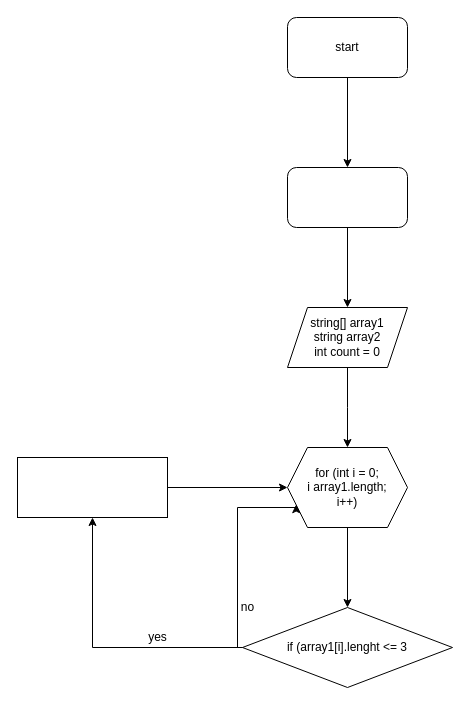
This 470x705 diagram has some shape labels left out. The shapes that lost their labels are listed below. From the top down, each one's centre as x and y in pixels, then its label:
At pixel 347 197: "SecondArrayWithIf".
At pixel 92 487: "array2[count] = array1[i] count++".
